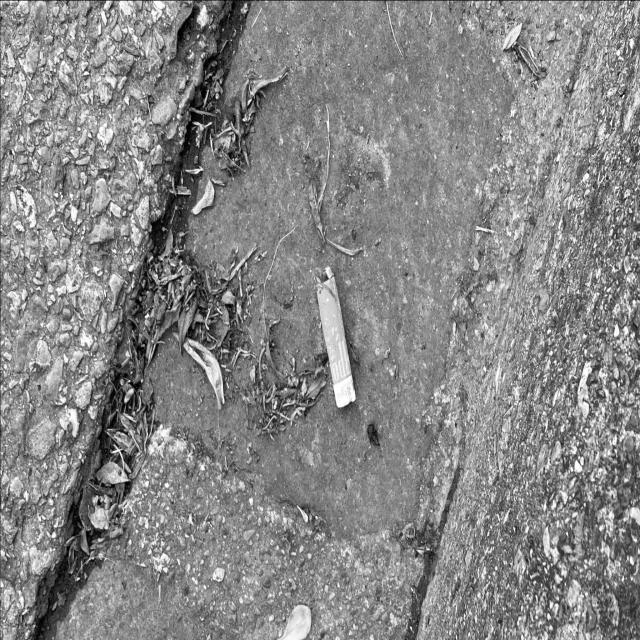other waste: (314, 274, 356, 409)
